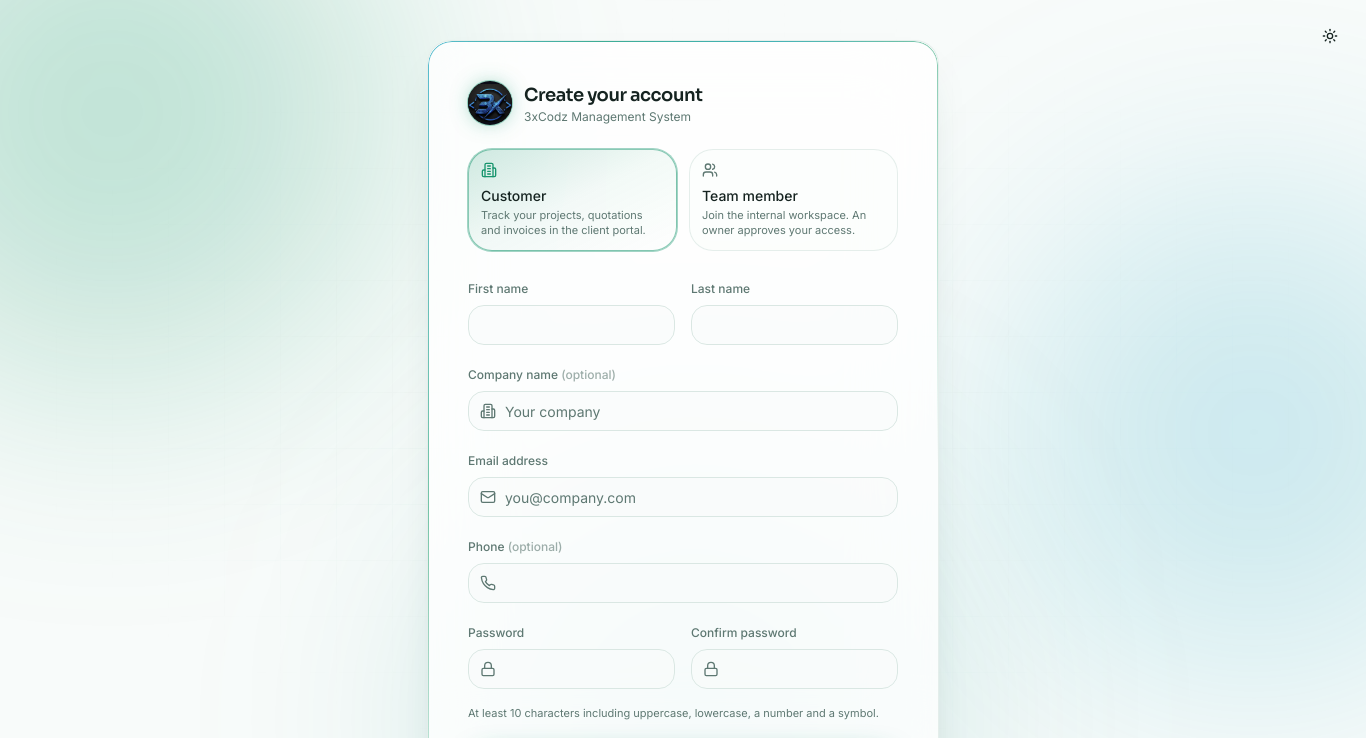
Test: Register › blocks submission when the passwords do not match
Type "Ada" into the field labelled "First name" at (572, 325), box x1=468 y1=305 x2=675 y2=345
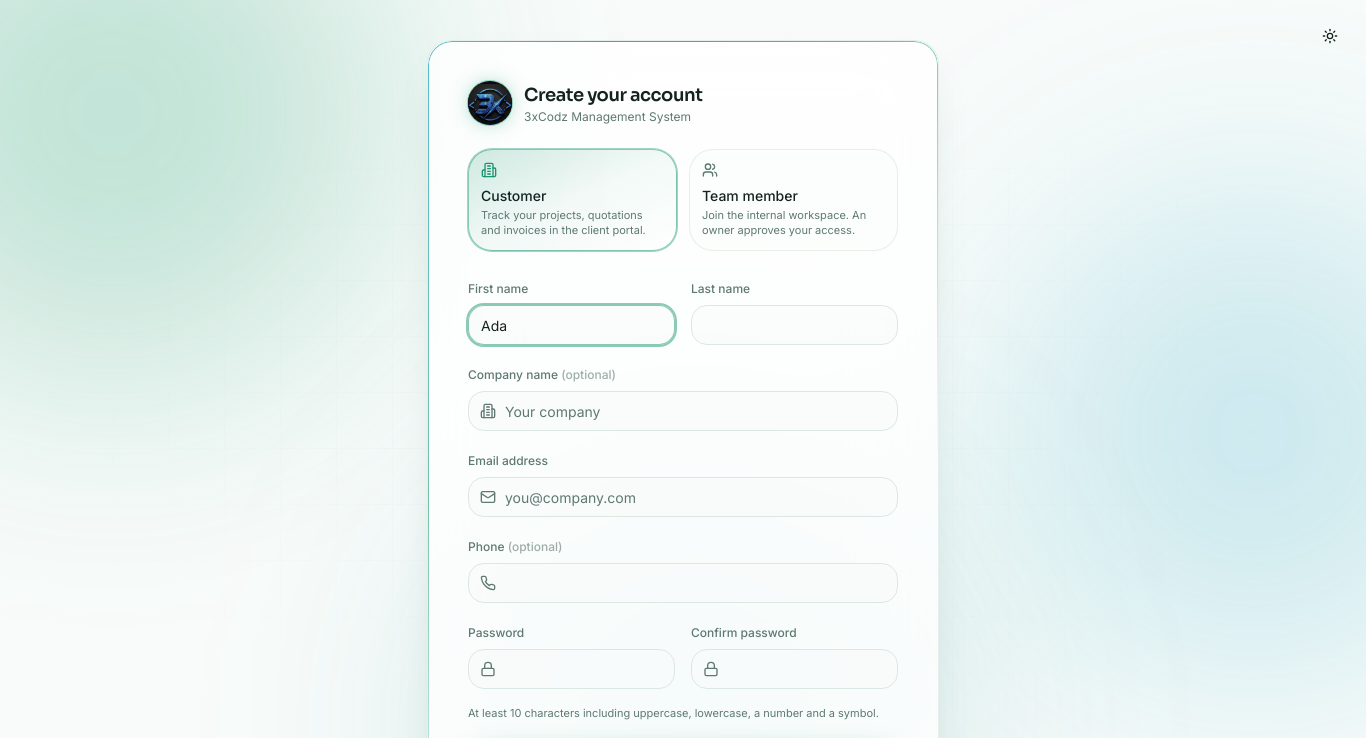
Type "Lovelace" into the field labelled "Last name" at (794, 325), box x1=691 y1=305 x2=898 y2=345
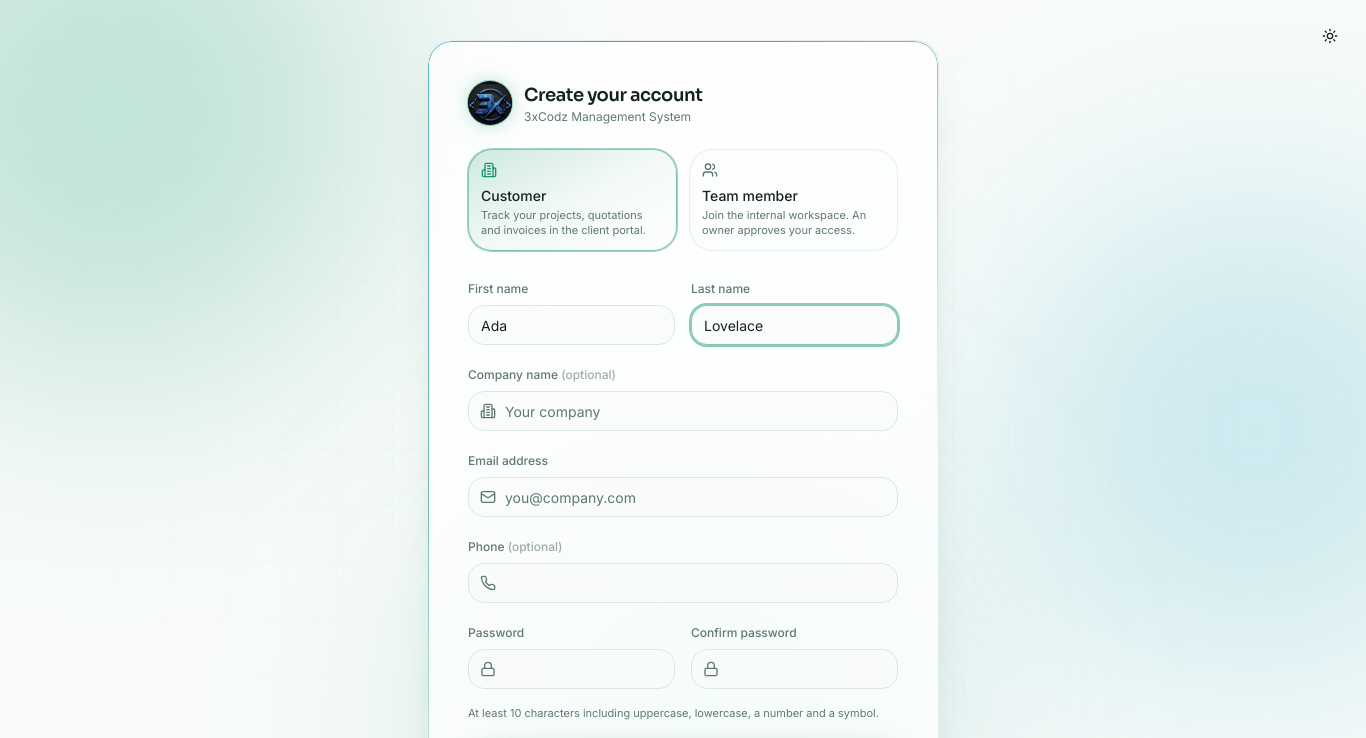
Type "ada@example.com" into the field labelled "Email address" at (683, 497), box x1=468 y1=477 x2=898 y2=517
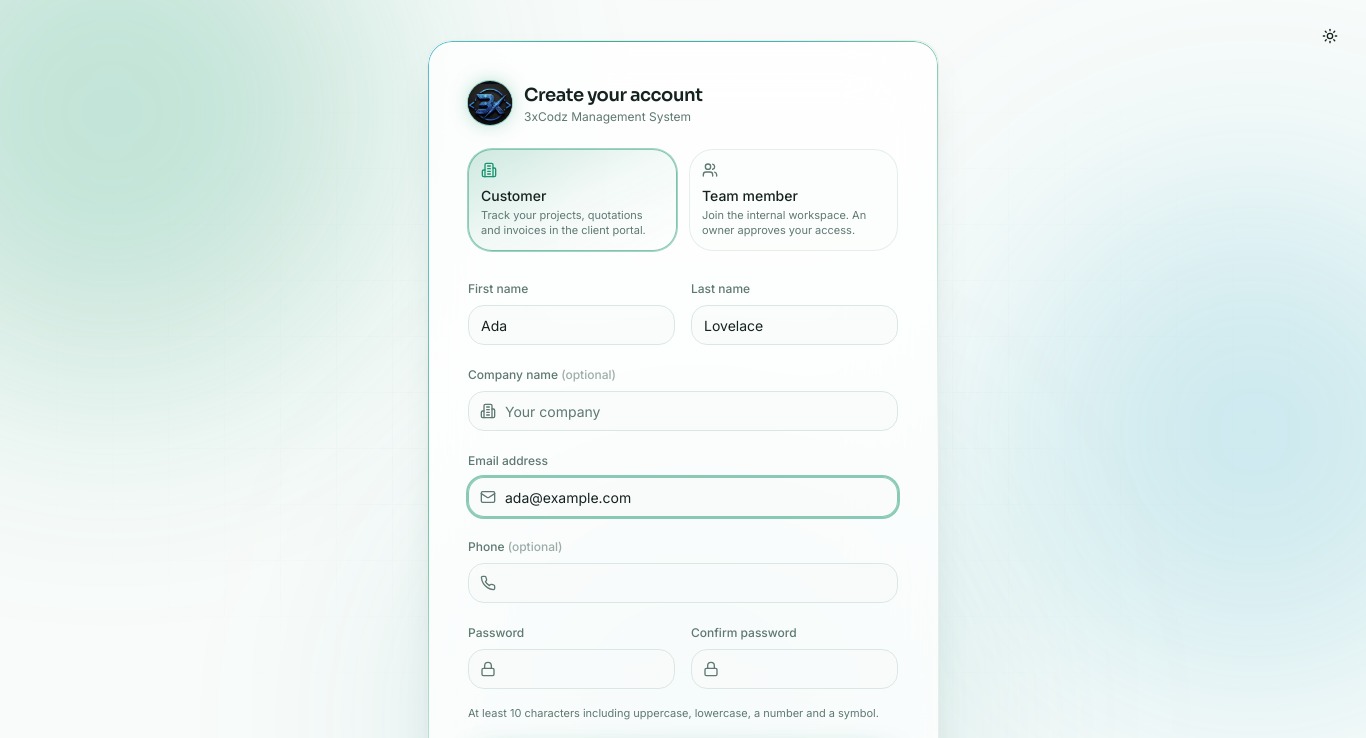
Type "Str0ng!Pass123" into the password field labelled "Password" at (572, 669), box x1=468 y1=649 x2=675 y2=689
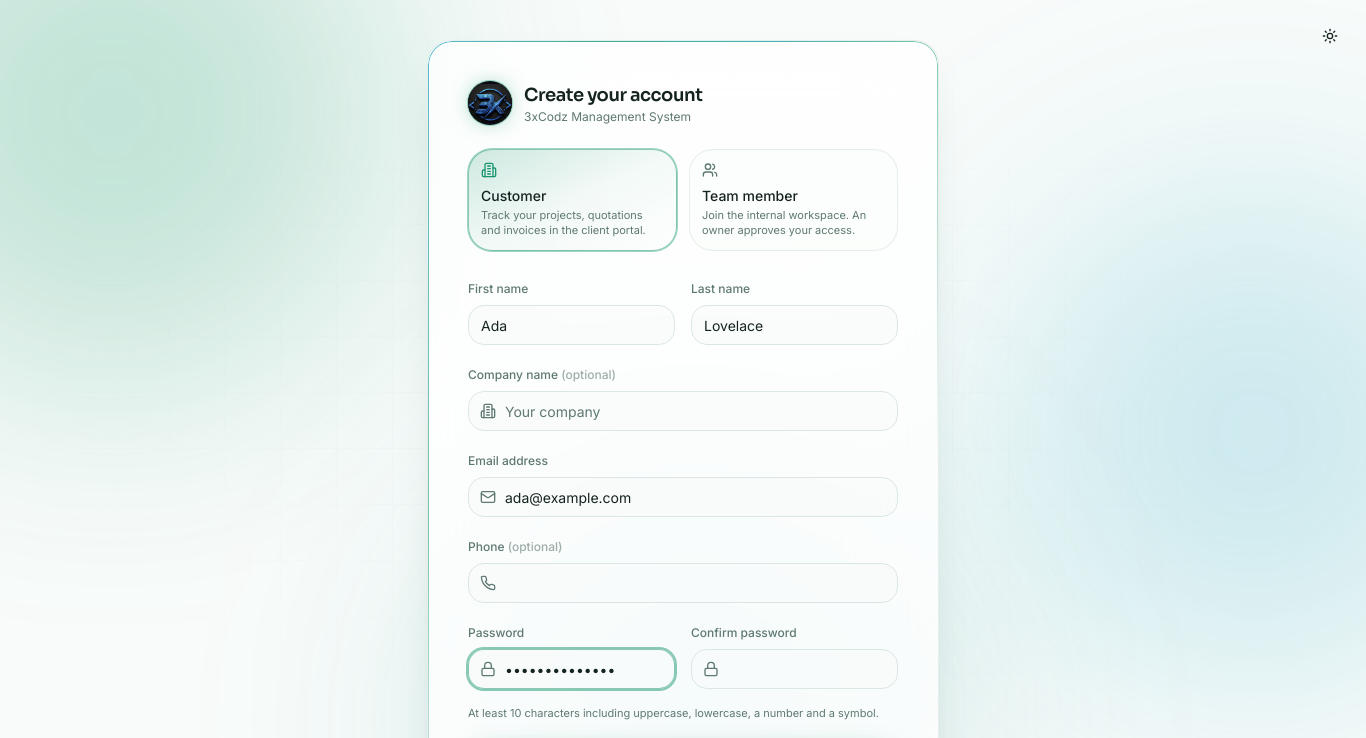
Type "Different!123" into the password field labelled "Confirm password" at (794, 669), box x1=691 y1=649 x2=898 y2=689
(page scrolled)
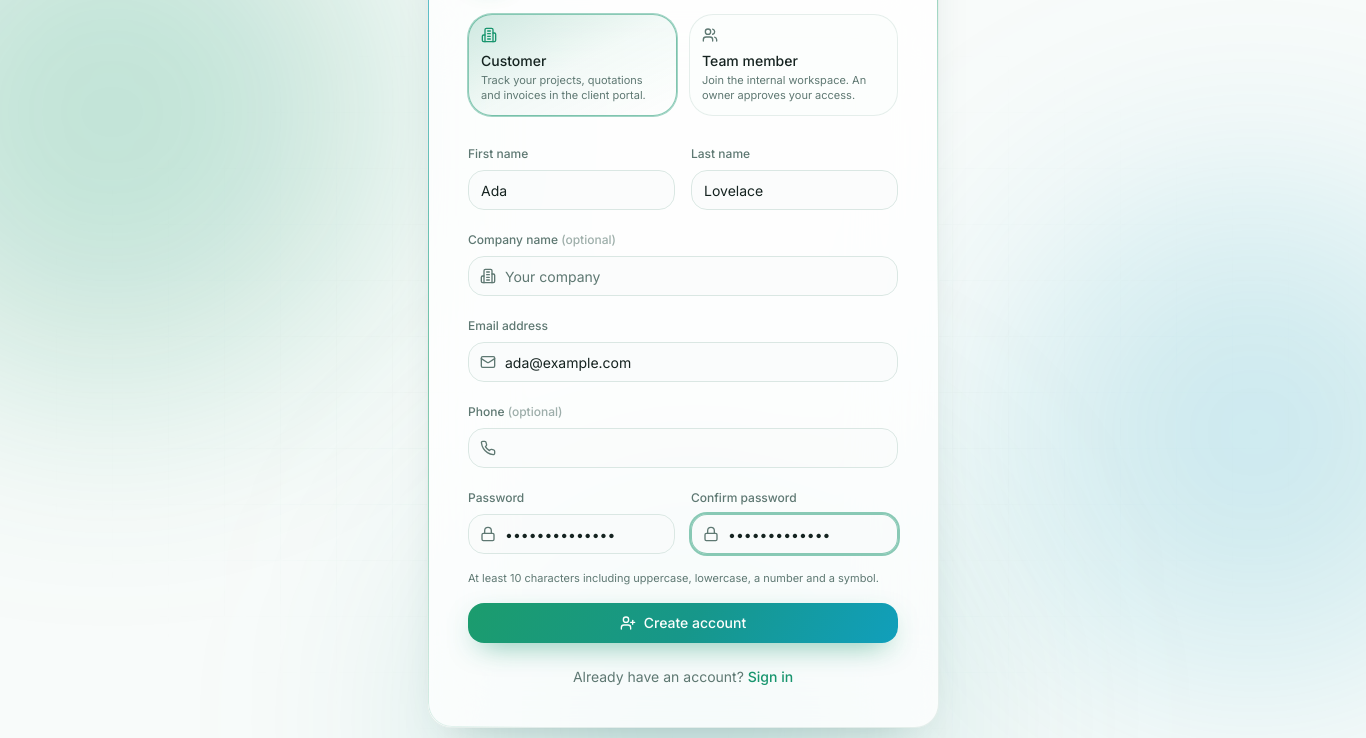
Click the button "Create account" at (683, 623), box x1=468 y1=603 x2=898 y2=643
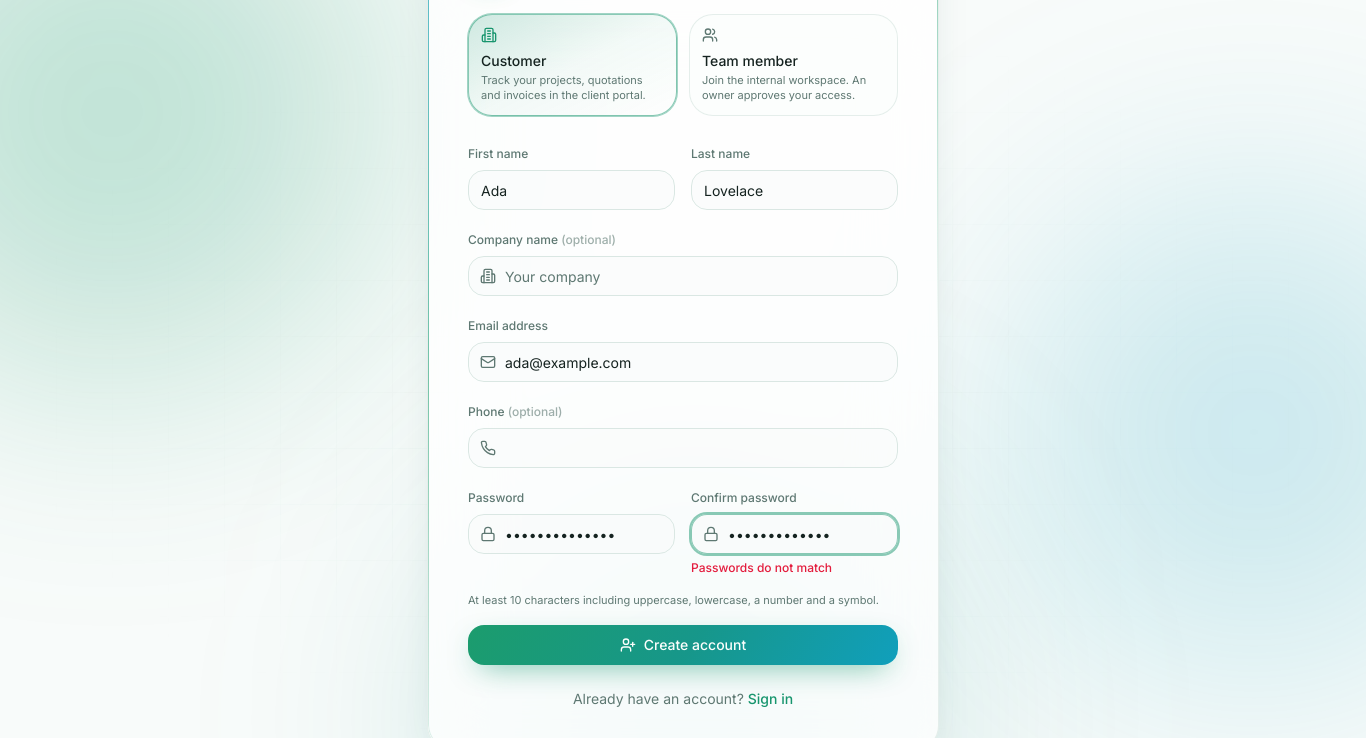
Now the text "Passwords do not match" is shown, box x1=691 y1=560 x2=832 y2=575
